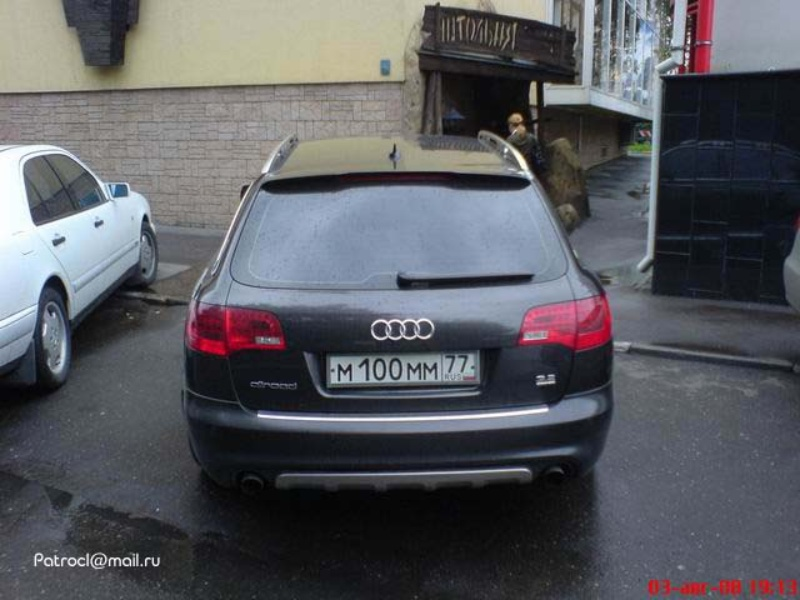car: (183, 134, 614, 494), (1, 142, 158, 391)
person: (505, 111, 540, 168)
plate: (328, 352, 476, 383)
